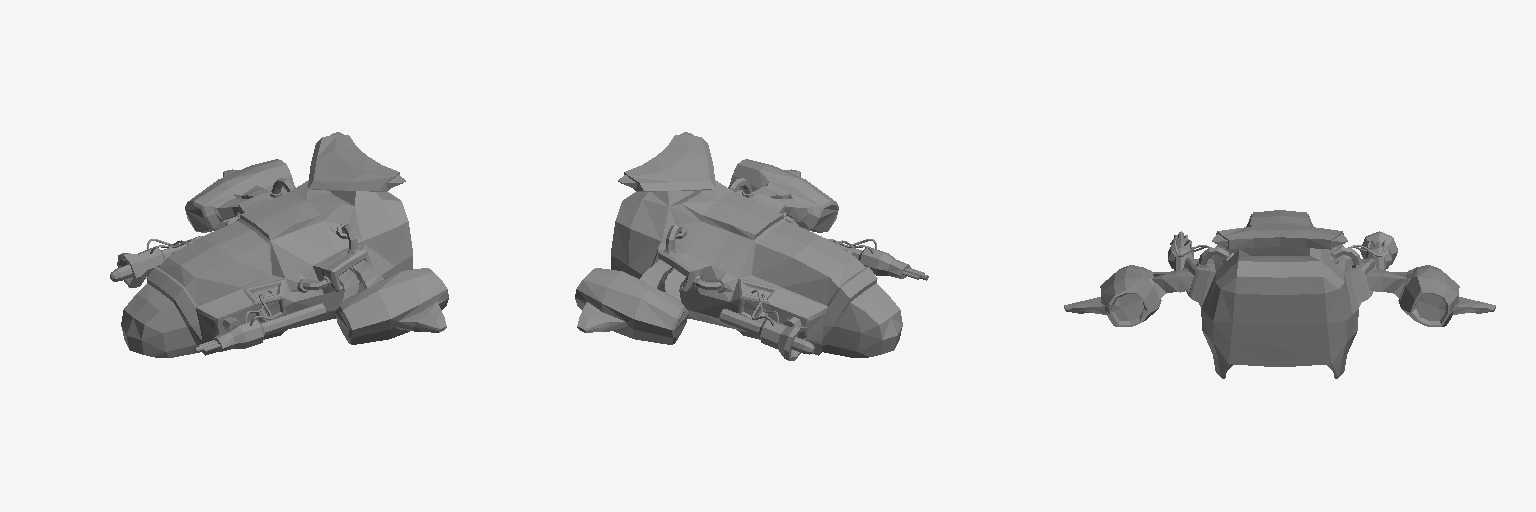
The model's file is StarFighter.obj.
3 renders of one model, left to right at view 1: azimuth 30°, elevation 25°; view 2: azimuth 150°, elevation 25°; view 3: azimuth 270°, elevation 25°, orthographic.
Parts seen in each view (by area): view 1: lowpoly001; view 2: lowpoly001; view 3: lowpoly001.
Boxes of the visible parts, box(x1,y1,x2,y2) form: lowpoly001: box(110, 132, 448, 357); lowpoly001: box(575, 132, 928, 360); lowpoly001: box(1064, 210, 1495, 378).
Size of the model in its own units: 166 by 90.41 by 240.